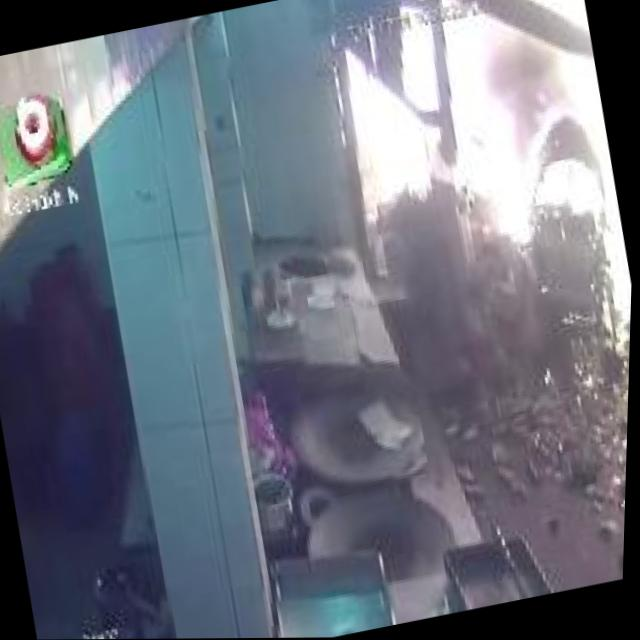fire: (331, 0, 585, 295), (441, 0, 640, 375)
